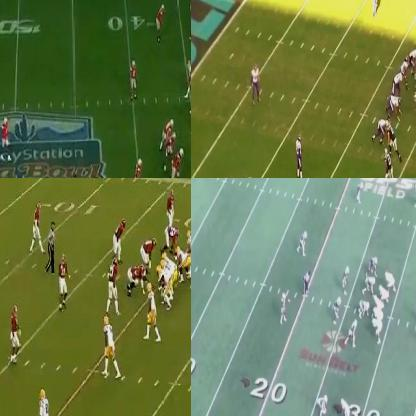CENTER: (374, 296, 385, 308), (160, 251, 169, 260)
DB: (30, 201, 44, 251), (9, 305, 20, 364), (2, 118, 12, 162), (156, 2, 166, 42), (294, 138, 304, 177), (251, 61, 260, 98), (166, 191, 176, 222), (129, 62, 137, 100), (301, 231, 308, 257), (319, 395, 328, 415), (356, 182, 363, 203), (282, 294, 287, 321), (370, 0, 378, 14)
LB: (58, 251, 72, 310), (113, 214, 122, 257), (399, 52, 409, 84), (392, 70, 404, 93), (134, 159, 144, 177), (334, 296, 340, 324), (343, 266, 349, 292)
SKILL: (104, 315, 119, 379), (145, 282, 161, 338), (106, 258, 121, 313), (40, 388, 60, 415), (387, 122, 400, 160), (383, 147, 398, 177), (348, 318, 356, 346), (185, 59, 190, 98), (341, 399, 351, 415)
